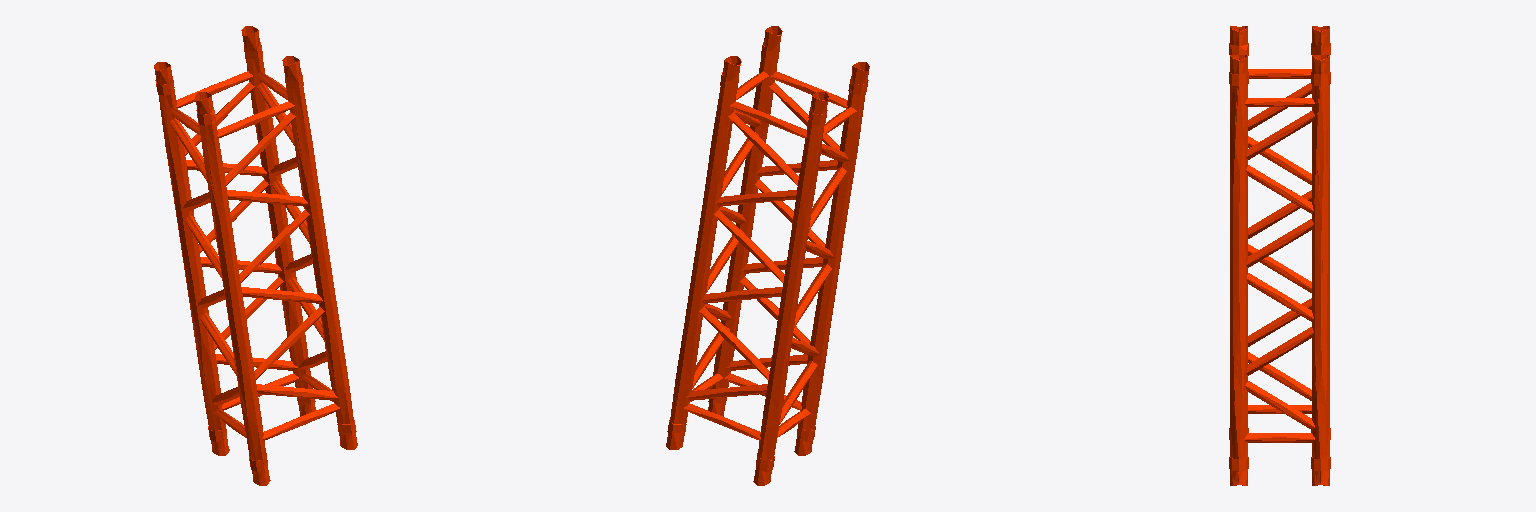
3 views of the same model, side by side, from view 1: azimuth 30°, elevation 25°; view 2: azimuth 150°, elevation 25°; view 3: azimuth 270°, elevation 25° (orthographic).
Parts seen in each view (by area): view 1: g[number redacted]_1; view 2: g[number redacted]_1; view 3: g[number redacted]_1.
Boxes of the visible parts, x1=… form: g[number redacted]_1: x1=154, y1=26, x2=357, y2=485; g[number redacted]_1: x1=666, y1=26, x2=869, y2=485; g[number redacted]_1: x1=1229, y1=26, x2=1330, y2=485.
Size of the model in its own units: 455 by 1123 by 247.